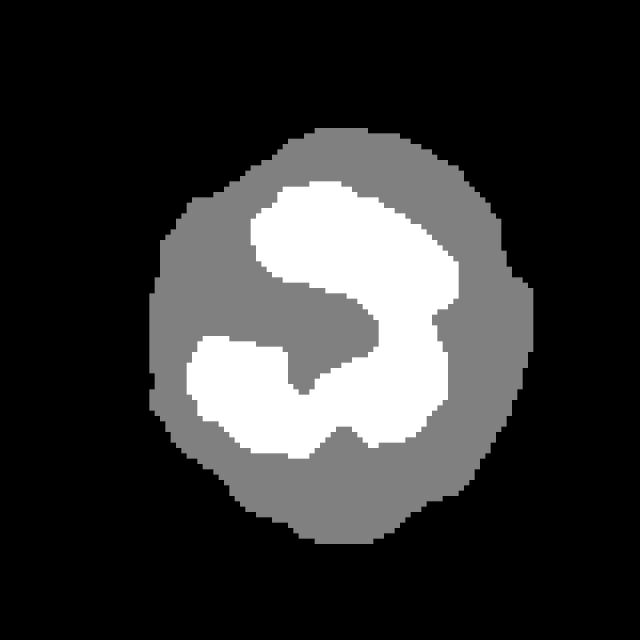WBC: (128, 112, 539, 555)
